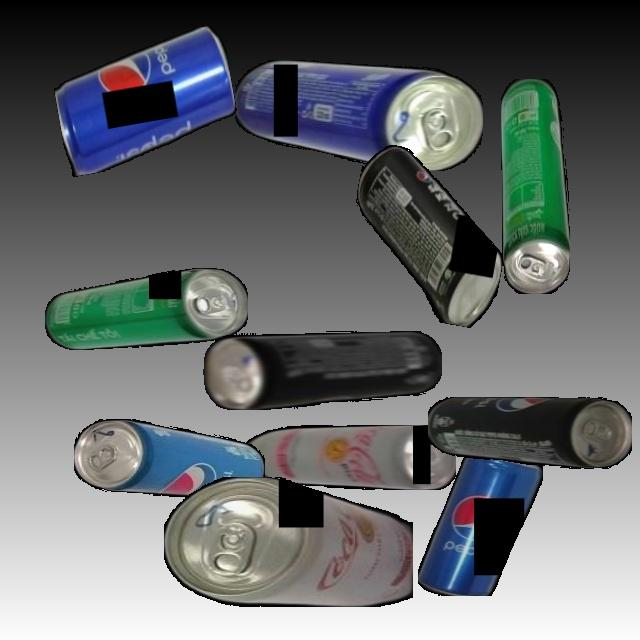debris: (338, 141, 519, 331), (164, 476, 413, 607), (48, 24, 243, 177), (234, 60, 483, 171), (203, 330, 442, 410), (418, 449, 543, 596), (44, 268, 248, 350), (74, 418, 265, 498), (500, 78, 570, 294), (427, 397, 632, 469), (244, 425, 456, 490)
